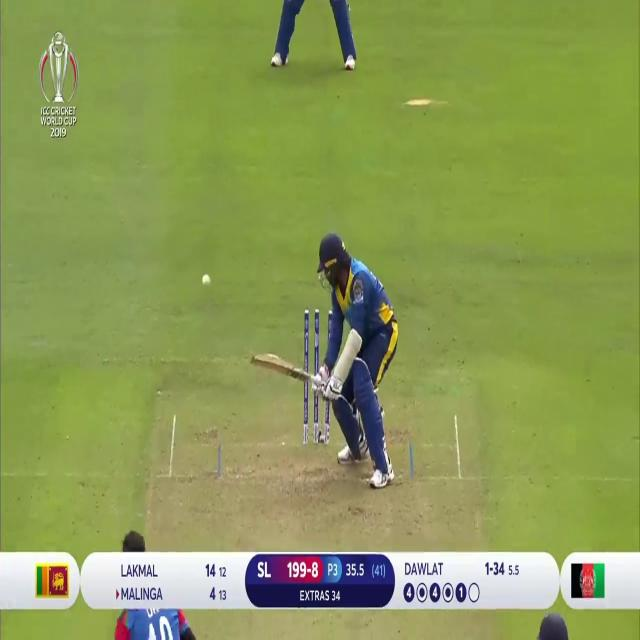ball: (201, 273, 211, 289)
